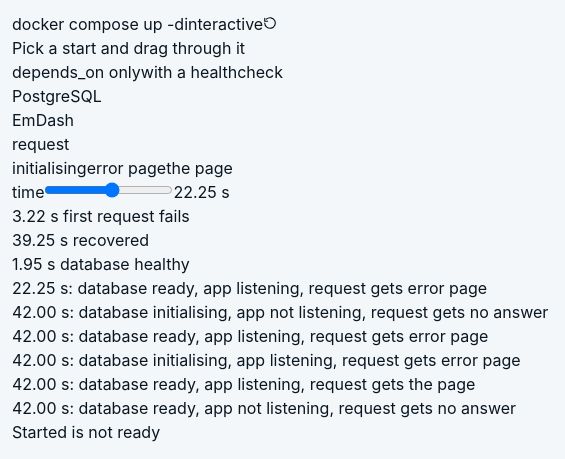
StartupTimeline › dragging to the start shows nothing answering yet
This screenshot has width=565, height=459.
Set the slider labelled "time" to "1" at (55, 190), box x1=44 y1=182 x2=174 y2=198
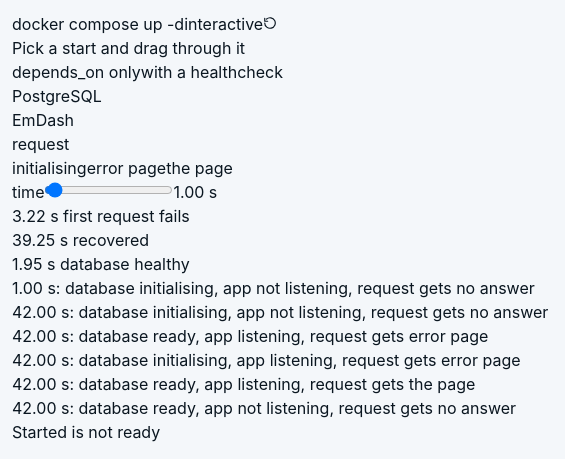
Now the text "1.00 s: database initialising, app not listening, request gets no answer" is shown, box x1=12 y1=278 x2=535 y2=298
